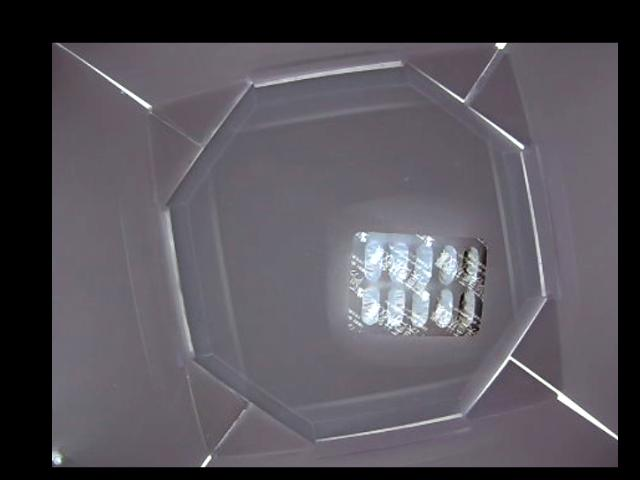Medicine: (343, 230, 488, 337)
